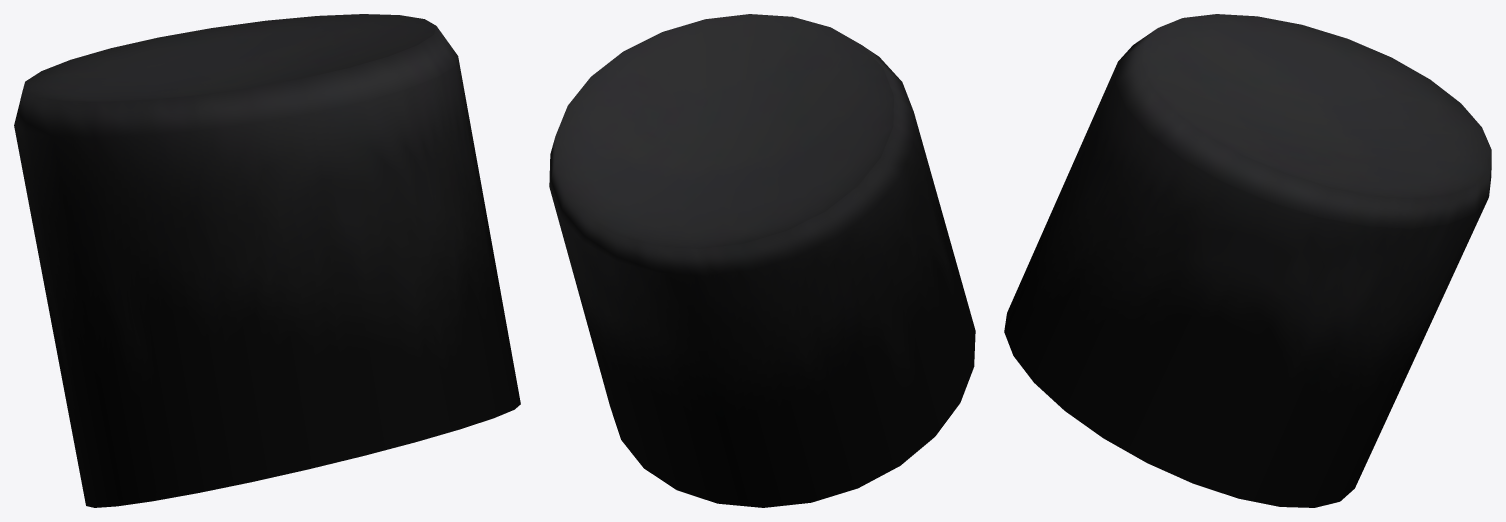
Rendered from button_system.obj.
3 renders of one model, left to right at view 1: azimuth 30°, elevation 25°; view 2: azimuth 150°, elevation 25°; view 3: azimuth 270°, elevation 25°, orthographic. The views are drawn at different scales.
Visible parts, largest first — view 1: l_button_system; view 2: l_button_system; view 3: l_button_system.
Boxes of the visible parts, box(x1,y1,x2,y2) form: l_button_system: box(14, 14, 520, 507); l_button_system: box(549, 14, 975, 507); l_button_system: box(1004, 14, 1491, 507).
Bounding box in the file's own units: 0.00606 × 0.00721 × 0.00757.
Materials: 1 (1 with a texture image).
